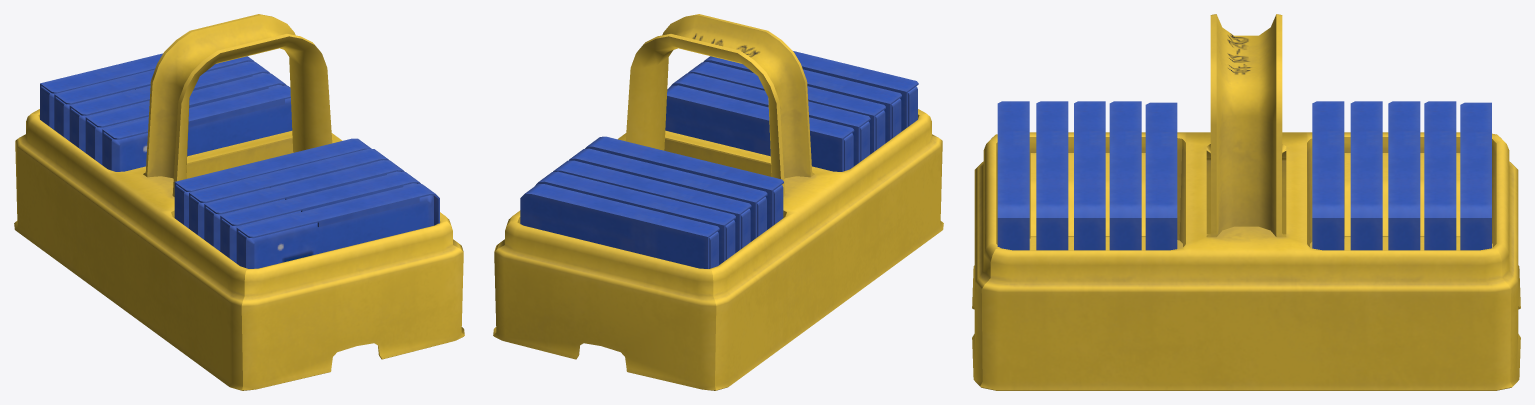
File: SM_Calculator_And_Case_01b.fbx
3 renders of one model, left to right at view 1: azimuth 30°, elevation 25°; view 2: azimuth 150°, elevation 25°; view 3: azimuth 270°, elevation 25°, orthographic. The views are drawn at different scales.
Parts seen in each view (by area): view 1: SM_Calculator_And_Case_01b_LOD0; view 2: SM_Calculator_And_Case_01b_LOD0; view 3: SM_Calculator_And_Case_01b_LOD0.
Part boxes in pixels (<box>): SM_Calculator_And_Case_01b_LOD0: <box>14,14,464,390</box>; SM_Calculator_And_Case_01b_LOD0: <box>493,14,943,390</box>; SM_Calculator_And_Case_01b_LOD0: <box>972,14,1520,390</box>.
Size of the model in its own units: 17.52 by 30.26 by 17.66.
Materials: 1 (1 with a texture image).
